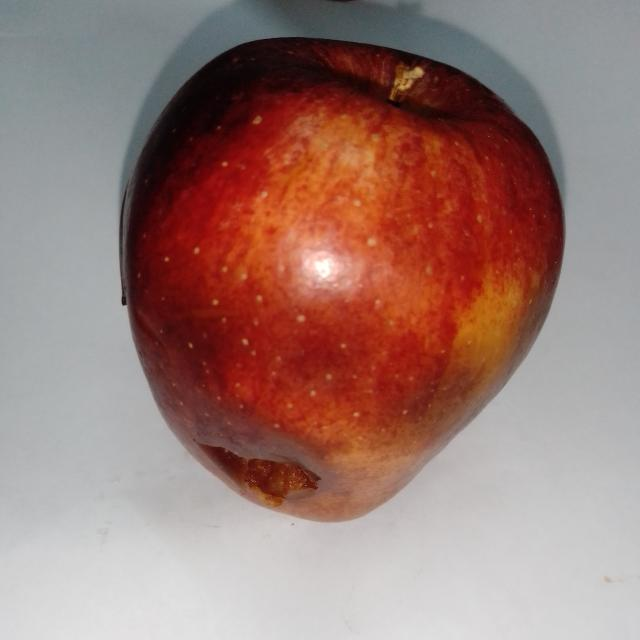apple: (122, 39, 563, 520)
